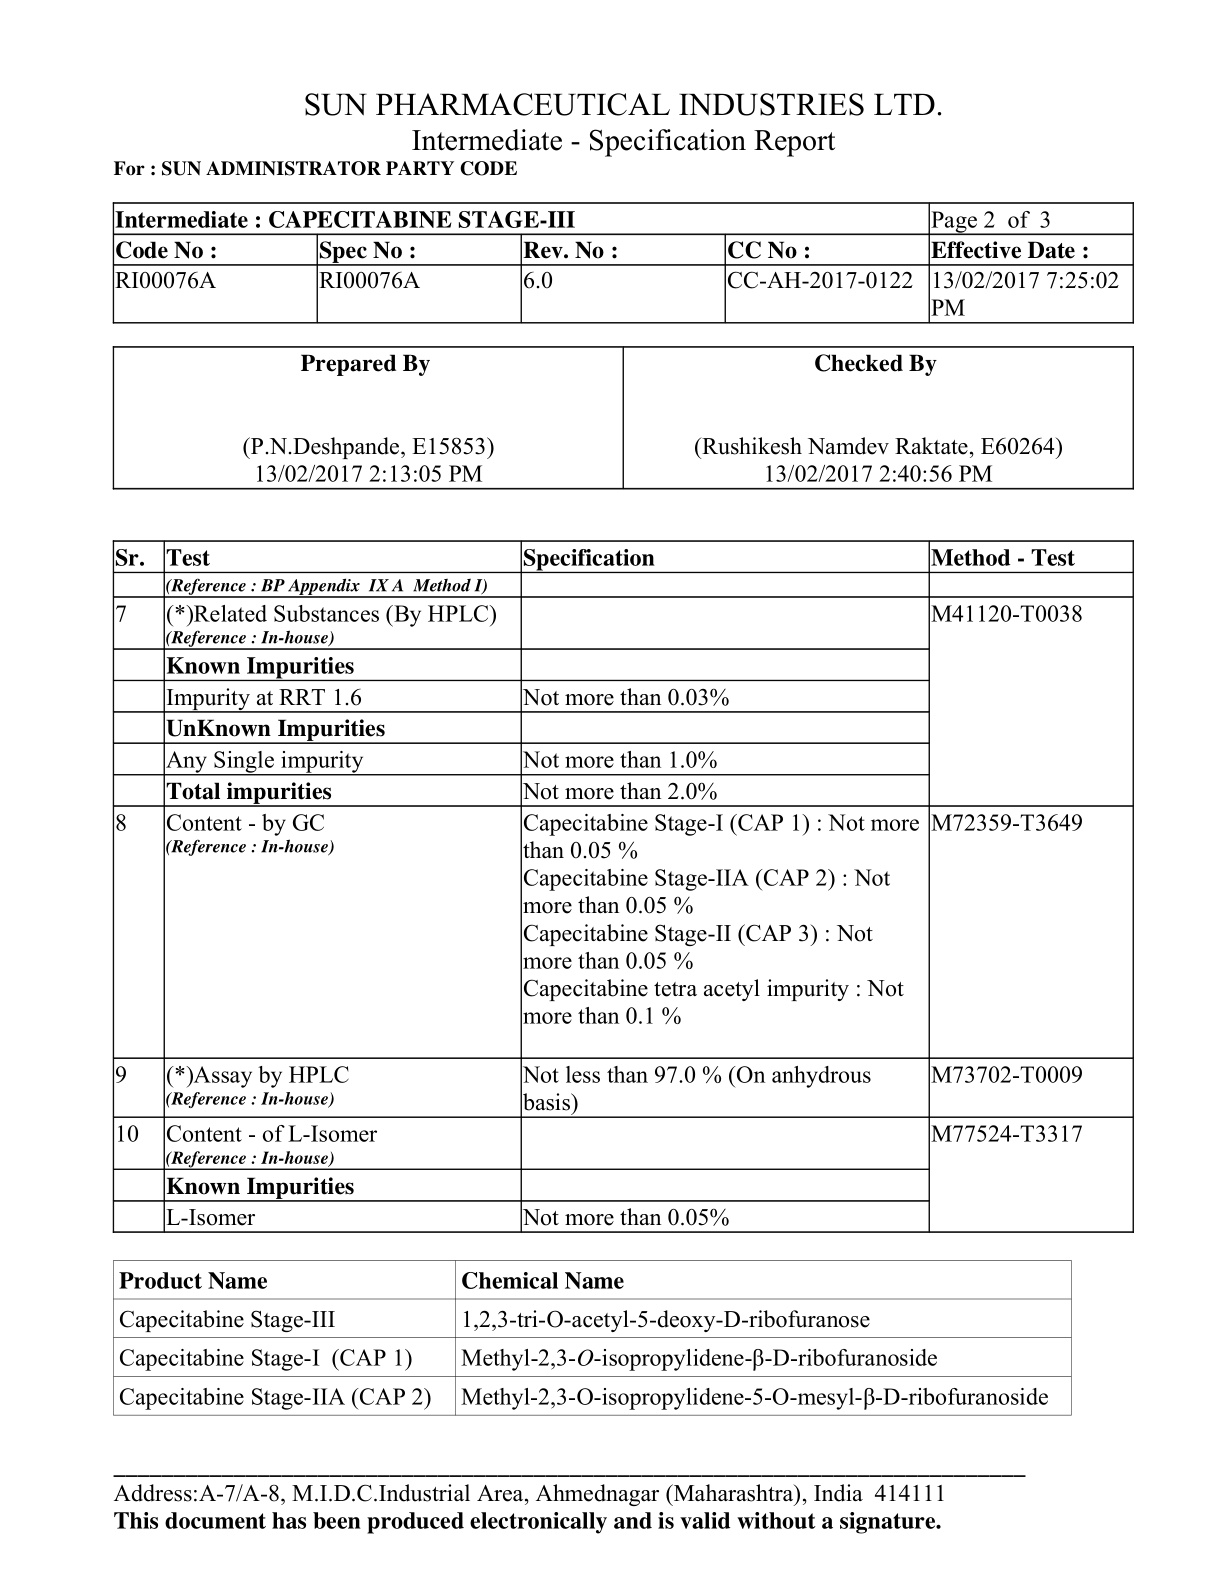full_lined: (111, 1259, 1074, 1417), (111, 345, 1135, 491)
merged_cells: (111, 539, 1135, 1236), (111, 201, 1135, 325)
